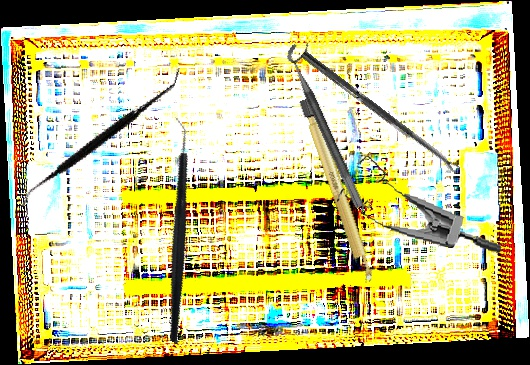Chopper: (90, 115, 260, 345)
Fixation Ring: (283, 38, 378, 210)
Scalpel Handle: (298, 96, 377, 285)
Spatula Surgical: (20, 33, 181, 241)
Speculum: (332, 153, 511, 254)
Surgical Spoon: (299, 50, 461, 175)
